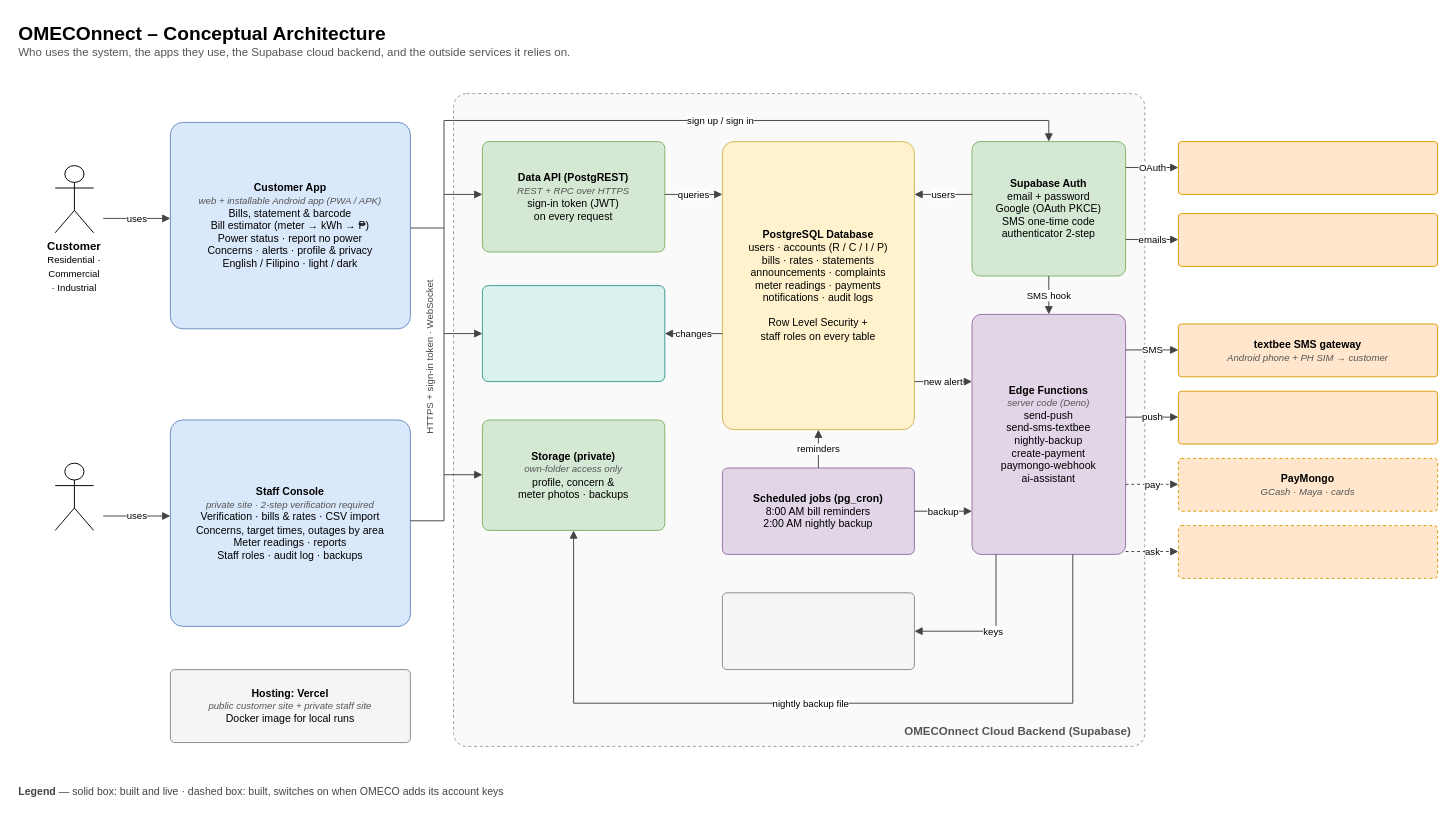
The diagram is 1454 pixels wide and 819 high, and some of its shapes have lost their labels. Each missing label, with the centre of its shape:
"Claude (Anthropic) AI assistant answers" goes at pixel 1307 551.
"Email service Supabase mailer · Brevo SMTP (add key)" goes at pixel 1307 239.
"Google Sign-In OAuth 2.0" goes at pixel 1307 167.
"OMECO Staff Supervisor · Billing · Service · Engineering" goes at pixel 74 496.
"Realtime WebSocket live updates on open screens" goes at pixel 573 333.
"Vault encrypted secrets push keys · hook secrets" goes at pixel 817 631.
"Web Push service pop-up alerts on the customer's phone" goes at pixel 1307 417.
